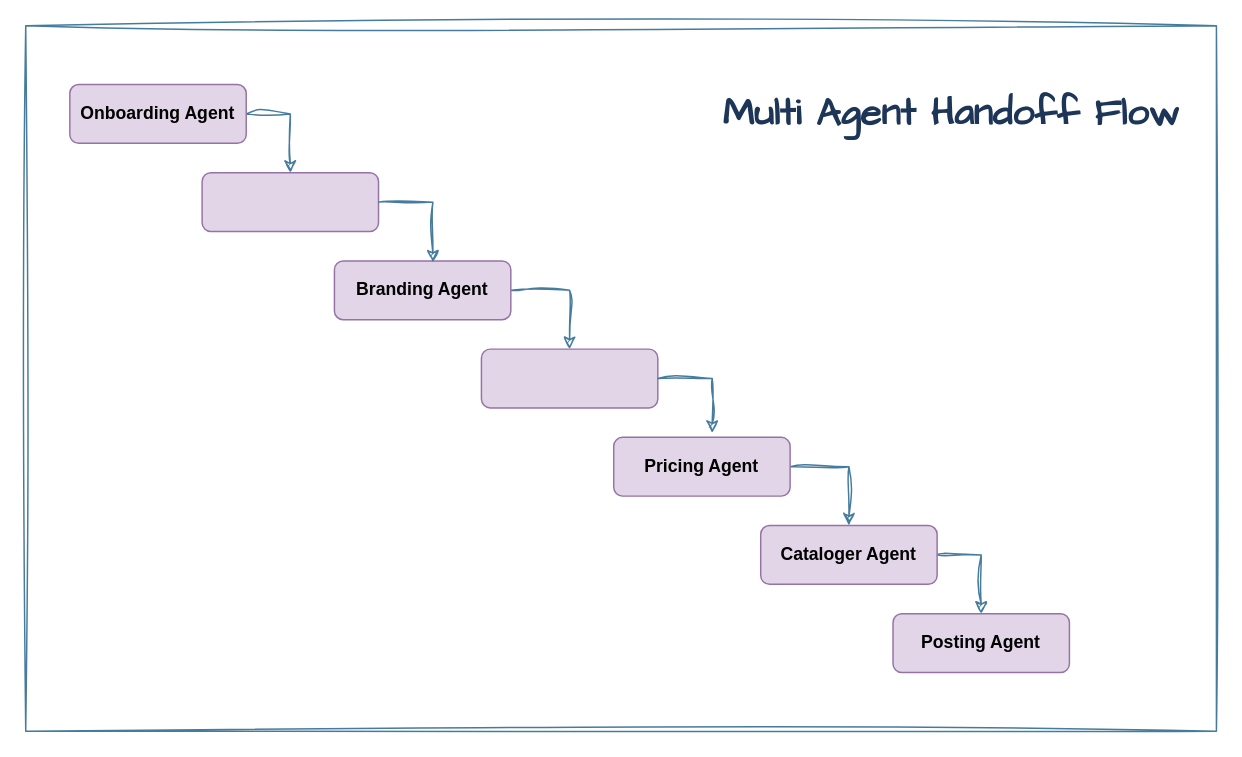
Image size: 1242x757. Some labels were removed from this diagram. The shapes that lost their labels are listed below. From the top down, each one's centre as x and y in pixels, then its label:
At (x=290, y=201): "Virtual Insight Agent".
At (x=569, y=378): "SEO Agent".
